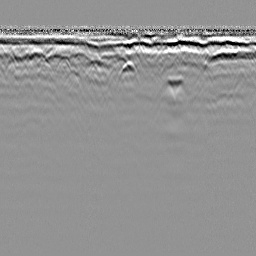cavity: (116, 59, 140, 85)
